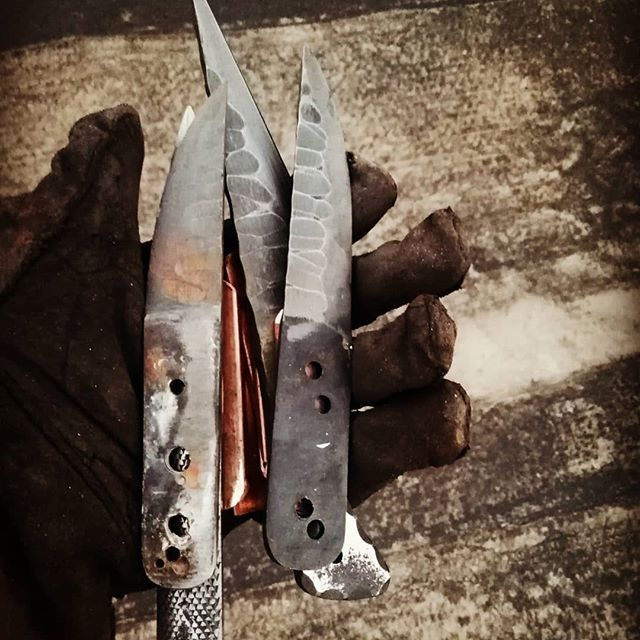knife: (192, 1, 391, 598), (266, 41, 354, 569), (142, 79, 229, 590)
